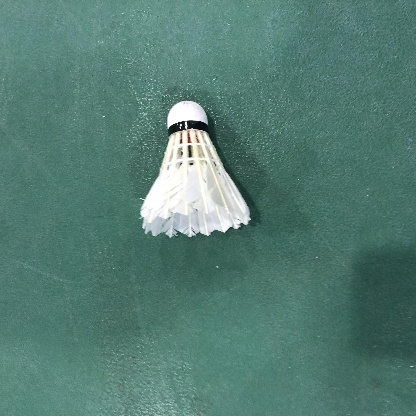ball_single: (140, 101, 251, 238)
